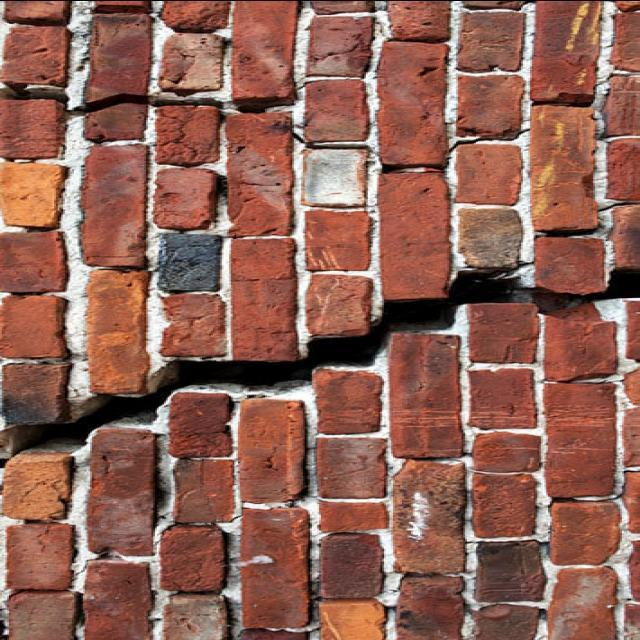wall_crack: (0, 262, 640, 467), (0, 73, 300, 118)
